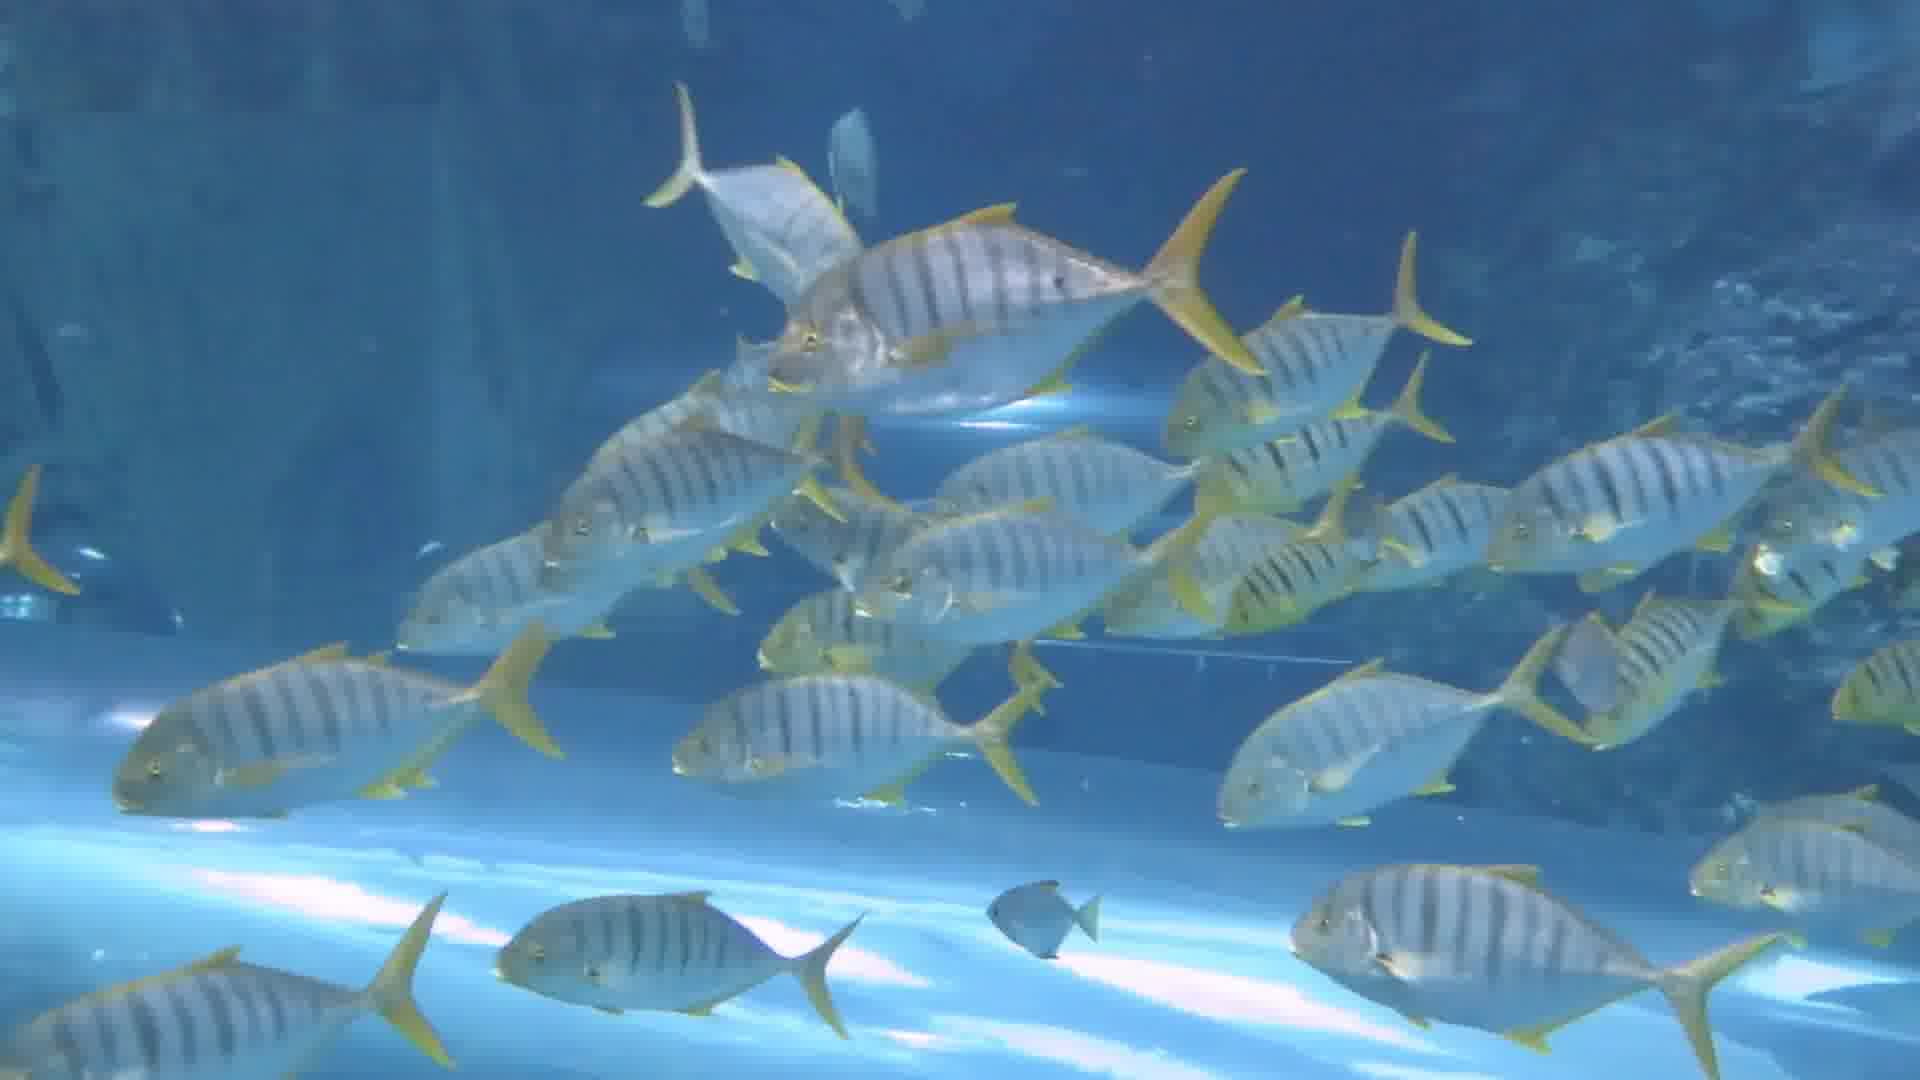Gnathanodon speciosus: (111, 644, 562, 843), (781, 194, 1216, 400), (1270, 865, 1710, 1052), (1213, 650, 1538, 845), (665, 669, 1040, 793), (496, 891, 858, 1019), (1480, 425, 1750, 593), (537, 404, 824, 547), (851, 521, 1153, 624), (1597, 578, 1754, 756), (1237, 512, 1400, 655)
